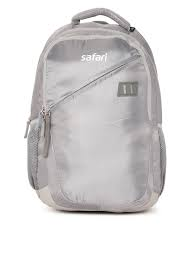backpack: (23, 7, 166, 213)
